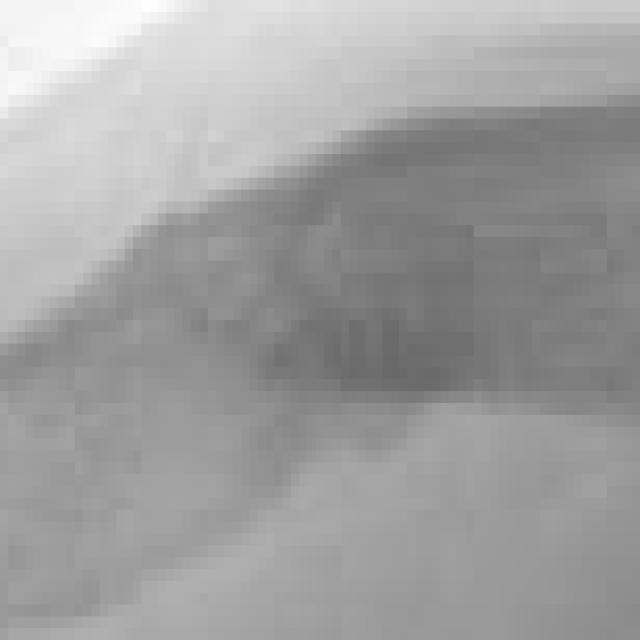fracture: (2, 8, 640, 640)
